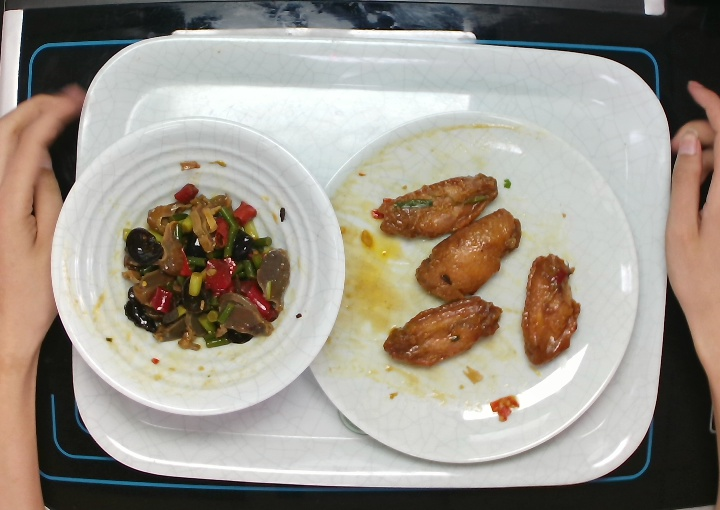JYsf-Da_Yuan_Pan: (296, 107, 641, 466)
JYsf-Xiao_Tang_Wan: (47, 114, 348, 416)
